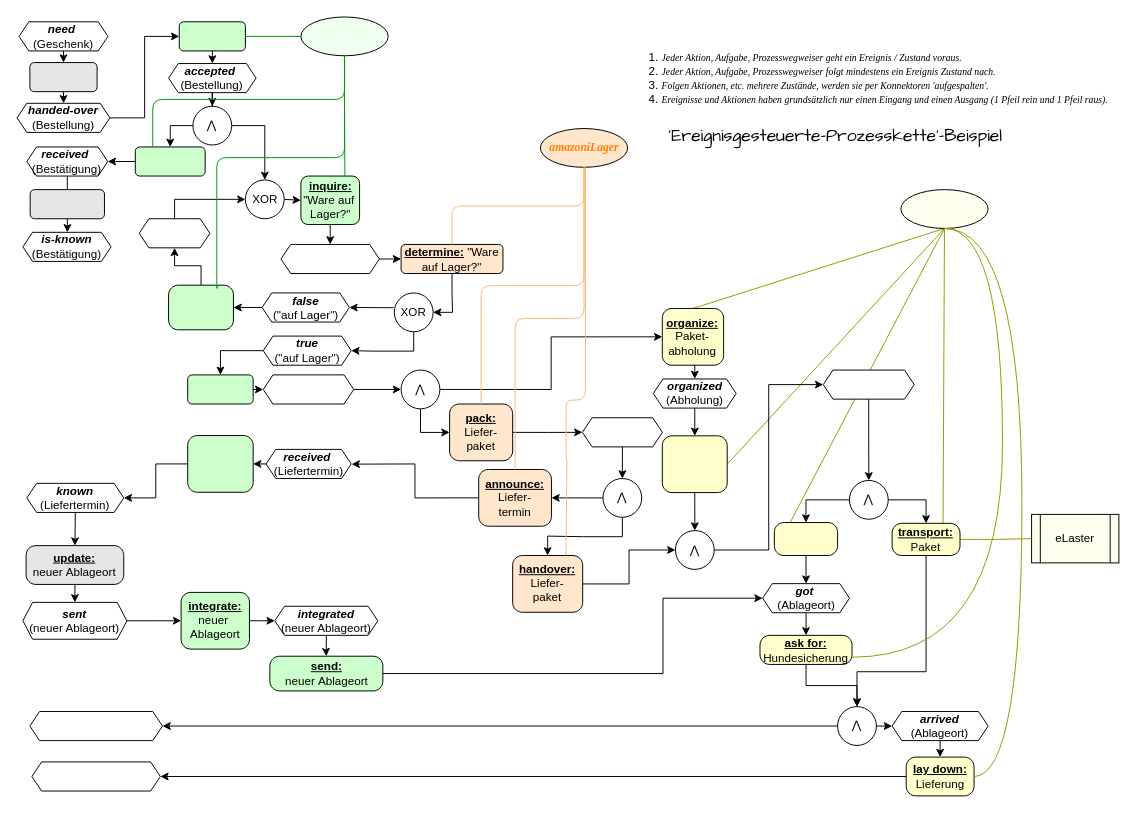
Image size: 1136x813. Some labels were removed from this diagram. Each missing label, with the centre of its shape:
"adopt: Bestellung" belongs at (211,36).
"amazoniShop" belongs at (344,36).
"dhli" belongs at (944,208).
"get: Ablageort" belongs at (805,539).
"got (Hunde-Anlein-Bitte)" belongs at (95,726).
"handed-over (Lageranfrage)" belongs at (329,258).
"handed-over (Lieferauftrag)" belongs at (308,389).
"insert: Bestellung" belongs at (63,77).
"mail: Liefer- termin" belongs at (220,463).
"order: Lieferung" belongs at (220,389).
"packed (Lieferpaket)" belongs at (621,432).
"passed (12 hours)" belongs at (174,233).
"picked-up (Lieferpaket)" belongs at (868,384).
"pickup: Liefer- paket" belongs at (694,464).
"read: Bestätigung" belongs at (66,204).
"received ( Paket )" belongs at (95,776).
"send: Bestätigung" belongs at (169,161).
"wait: 12 Hours" belongs at (200,307).
